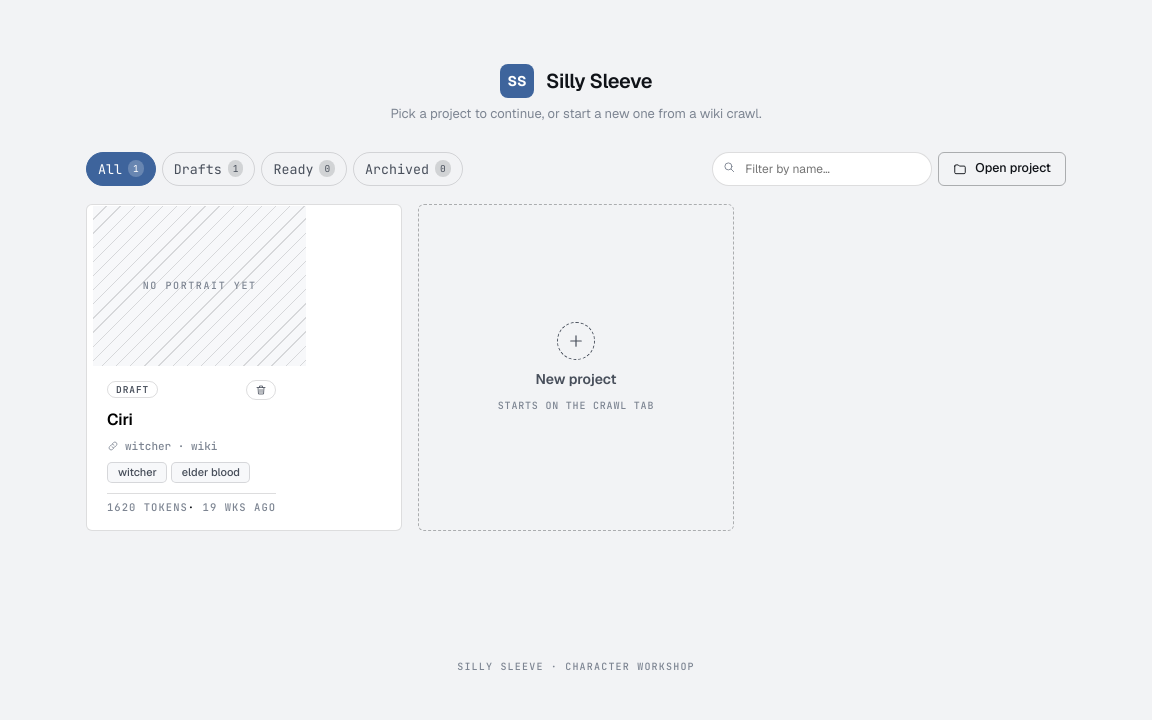
DashboardScreen › cancels naming with Escape or the Cancel button
Expected: the text "Ciri" is shown, x1=107 y1=410 x2=133 y2=430
Click the button with aria-label "Create new character project" at (576, 367), box x1=418 y1=204 x2=734 y2=531
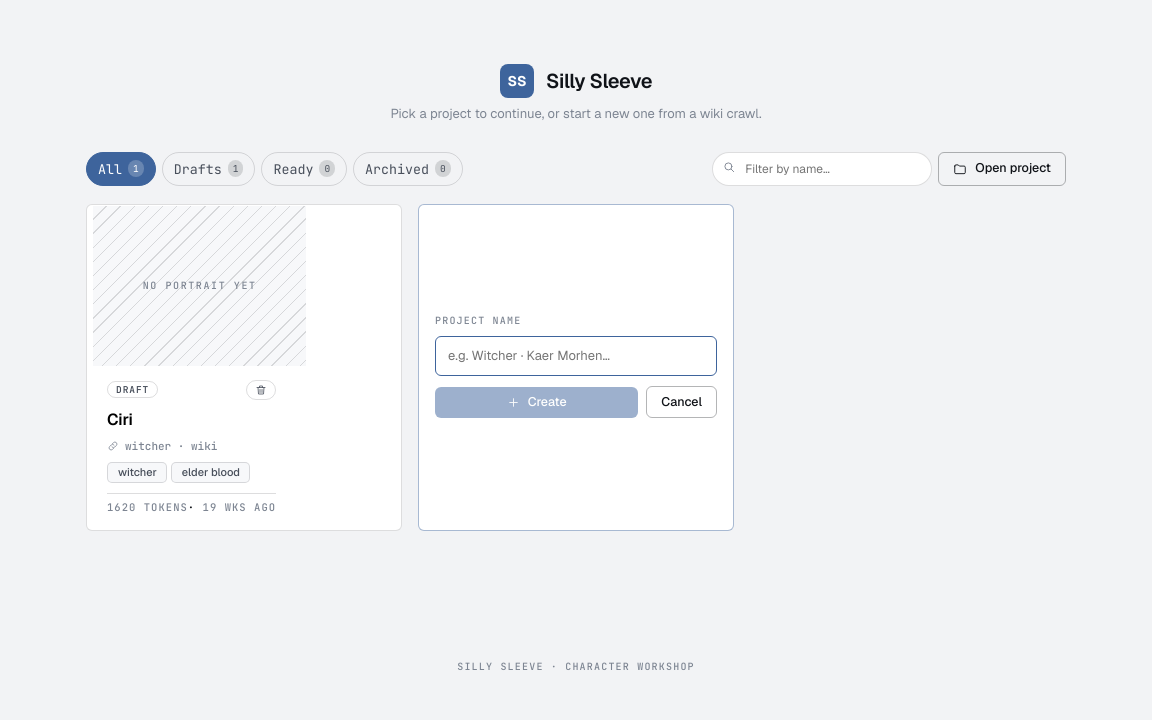
Type "abc" into the field labelled "Project name" at (576, 356), box x1=435 y1=336 x2=717 y2=376
Then press Escape
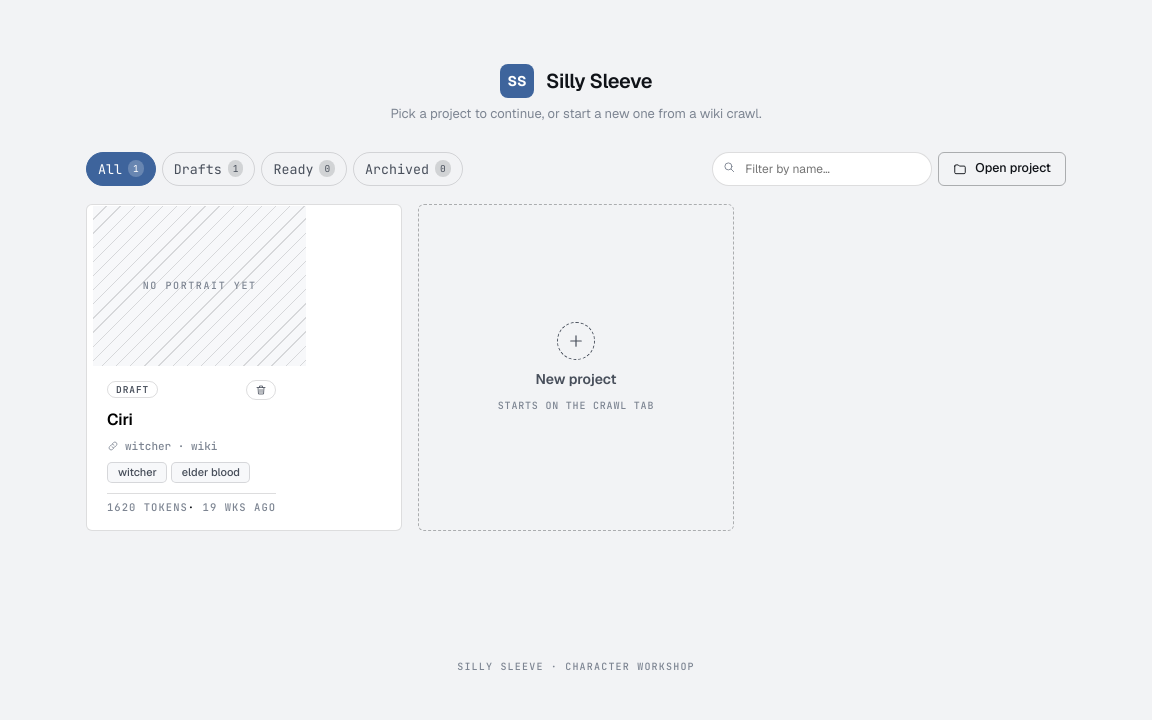
Expected: the label labelled "Project name" is gone
Click the button with aria-label "Create new character project" at (576, 367), box x1=418 y1=204 x2=734 y2=531
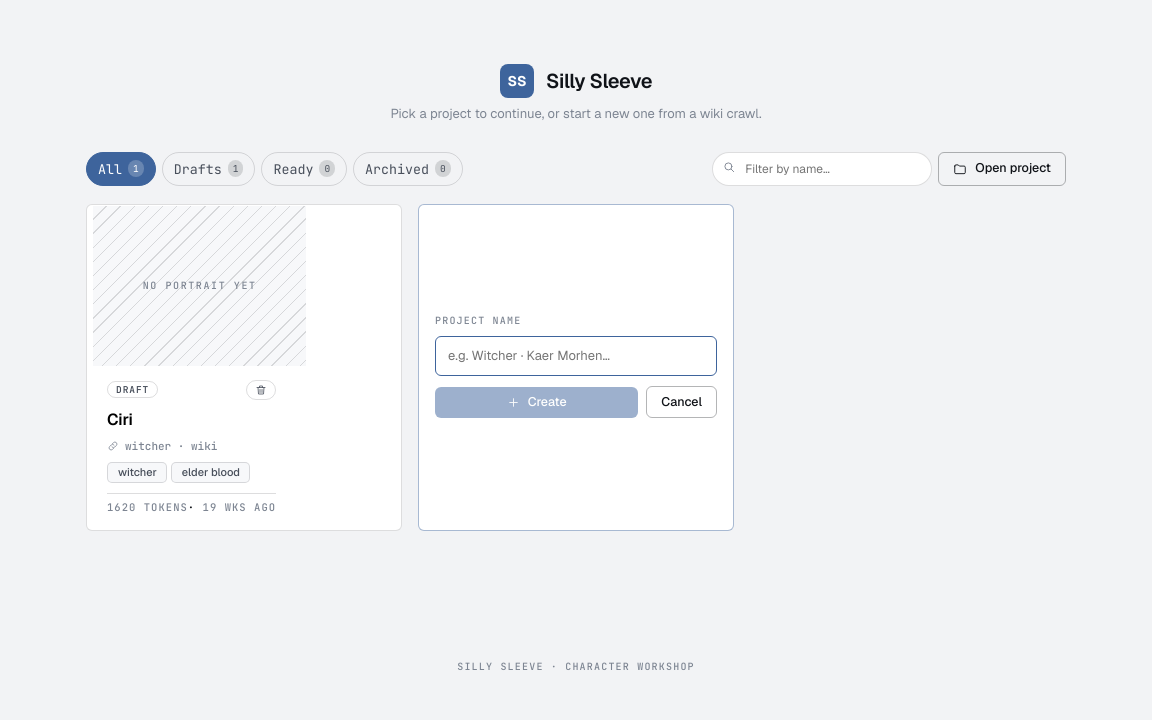
Click the button "Cancel" at (682, 402), box x1=646 y1=386 x2=717 y2=418
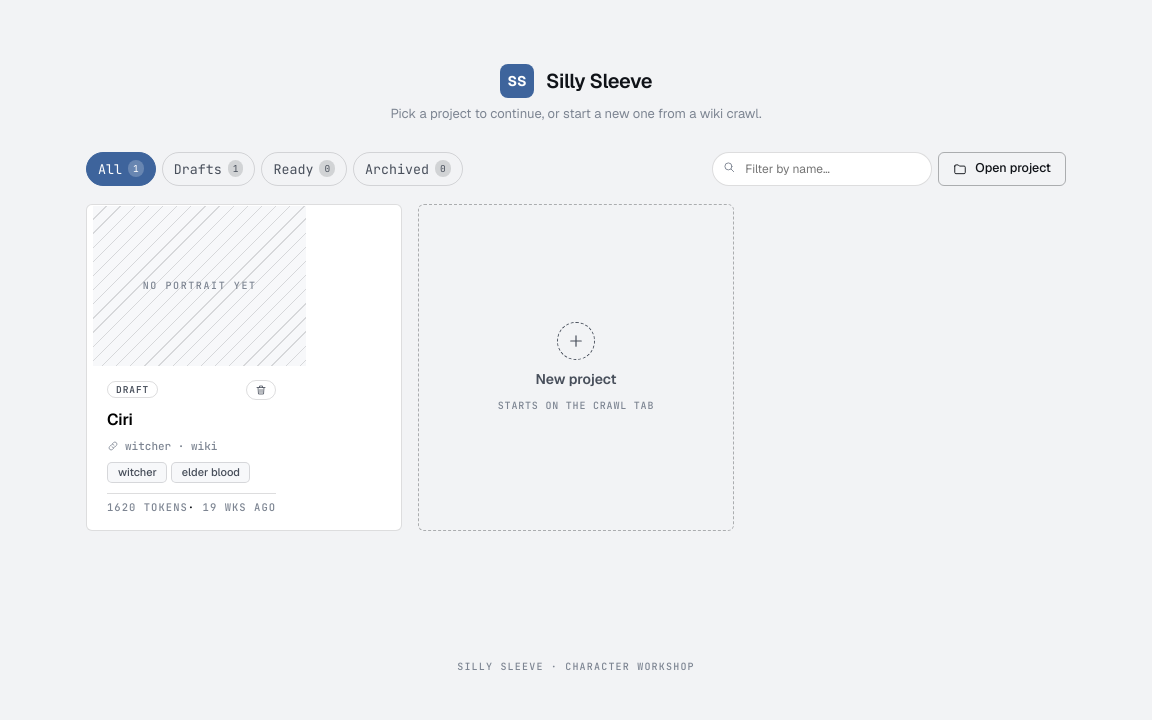
Expected: the label labelled "Project name" is gone
